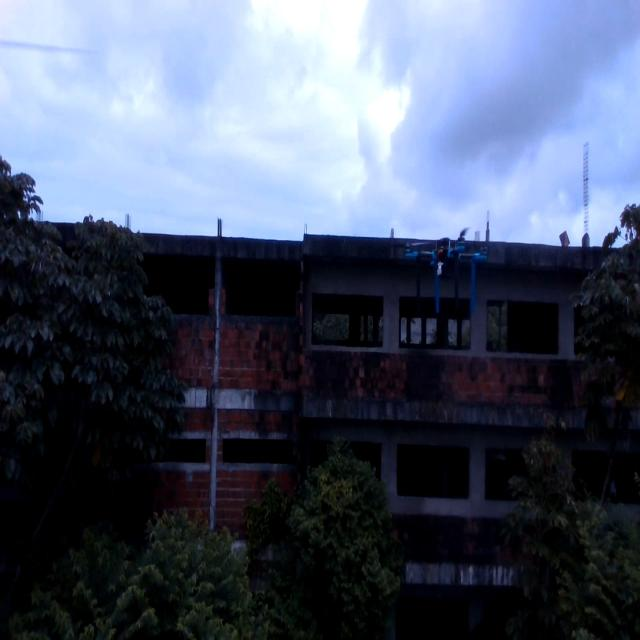-uav-: (404, 219, 489, 329)
